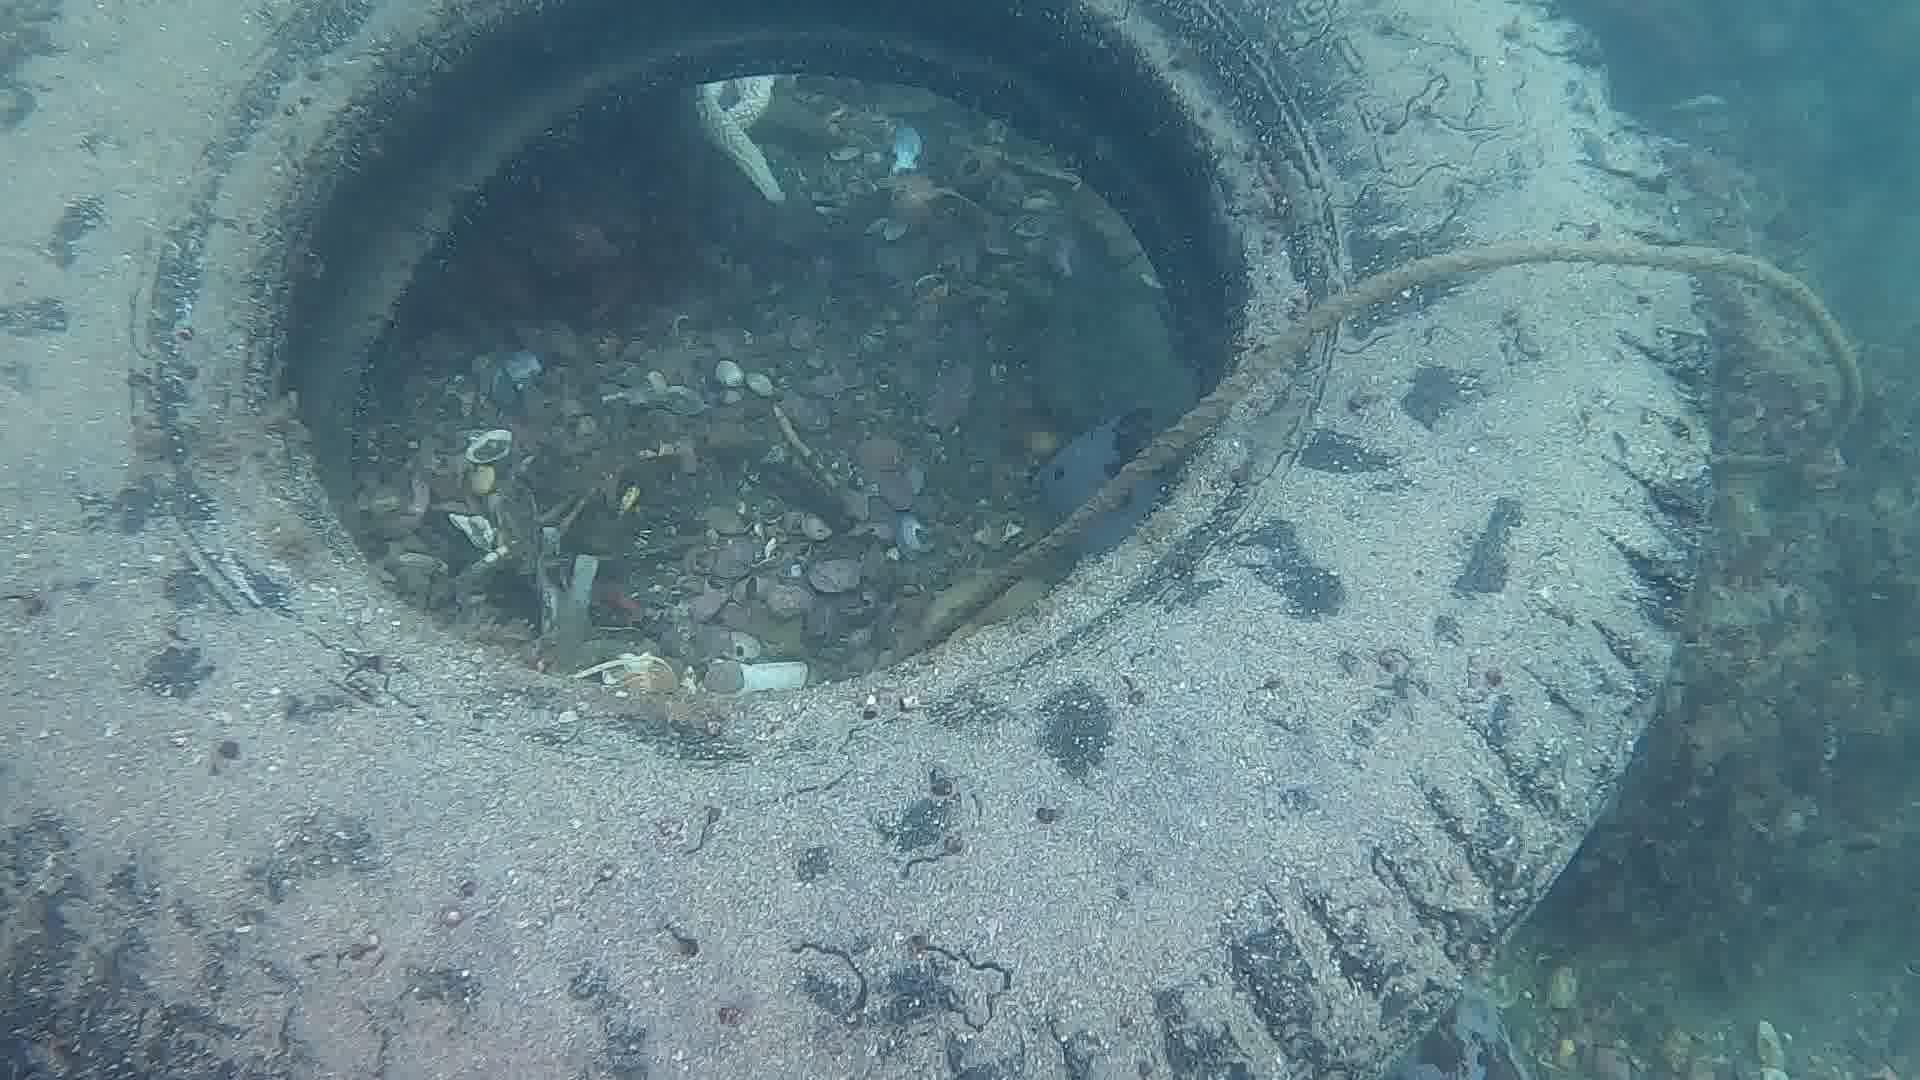rope: (887, 232, 1870, 665)
tire: (0, 0, 1710, 1080)
